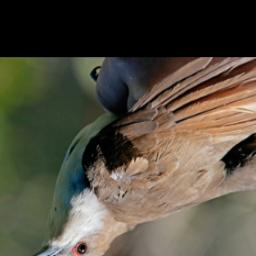Cuckoo: (22, 57, 256, 256)
